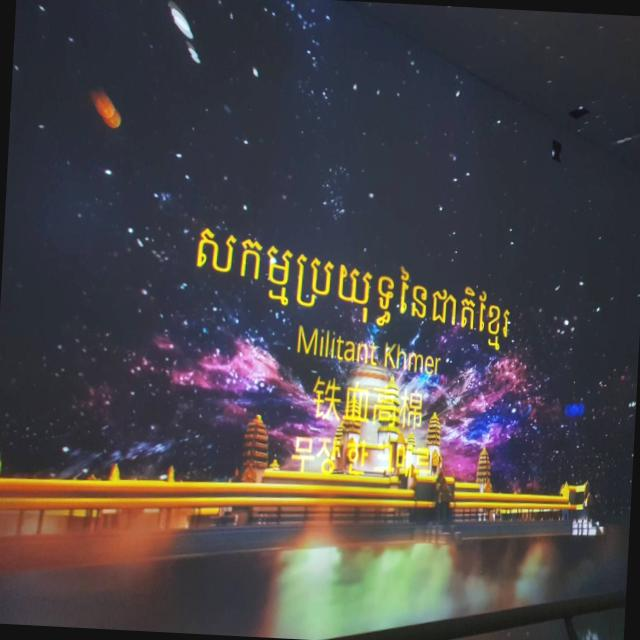Yolov11kh: (187, 213, 518, 362)
